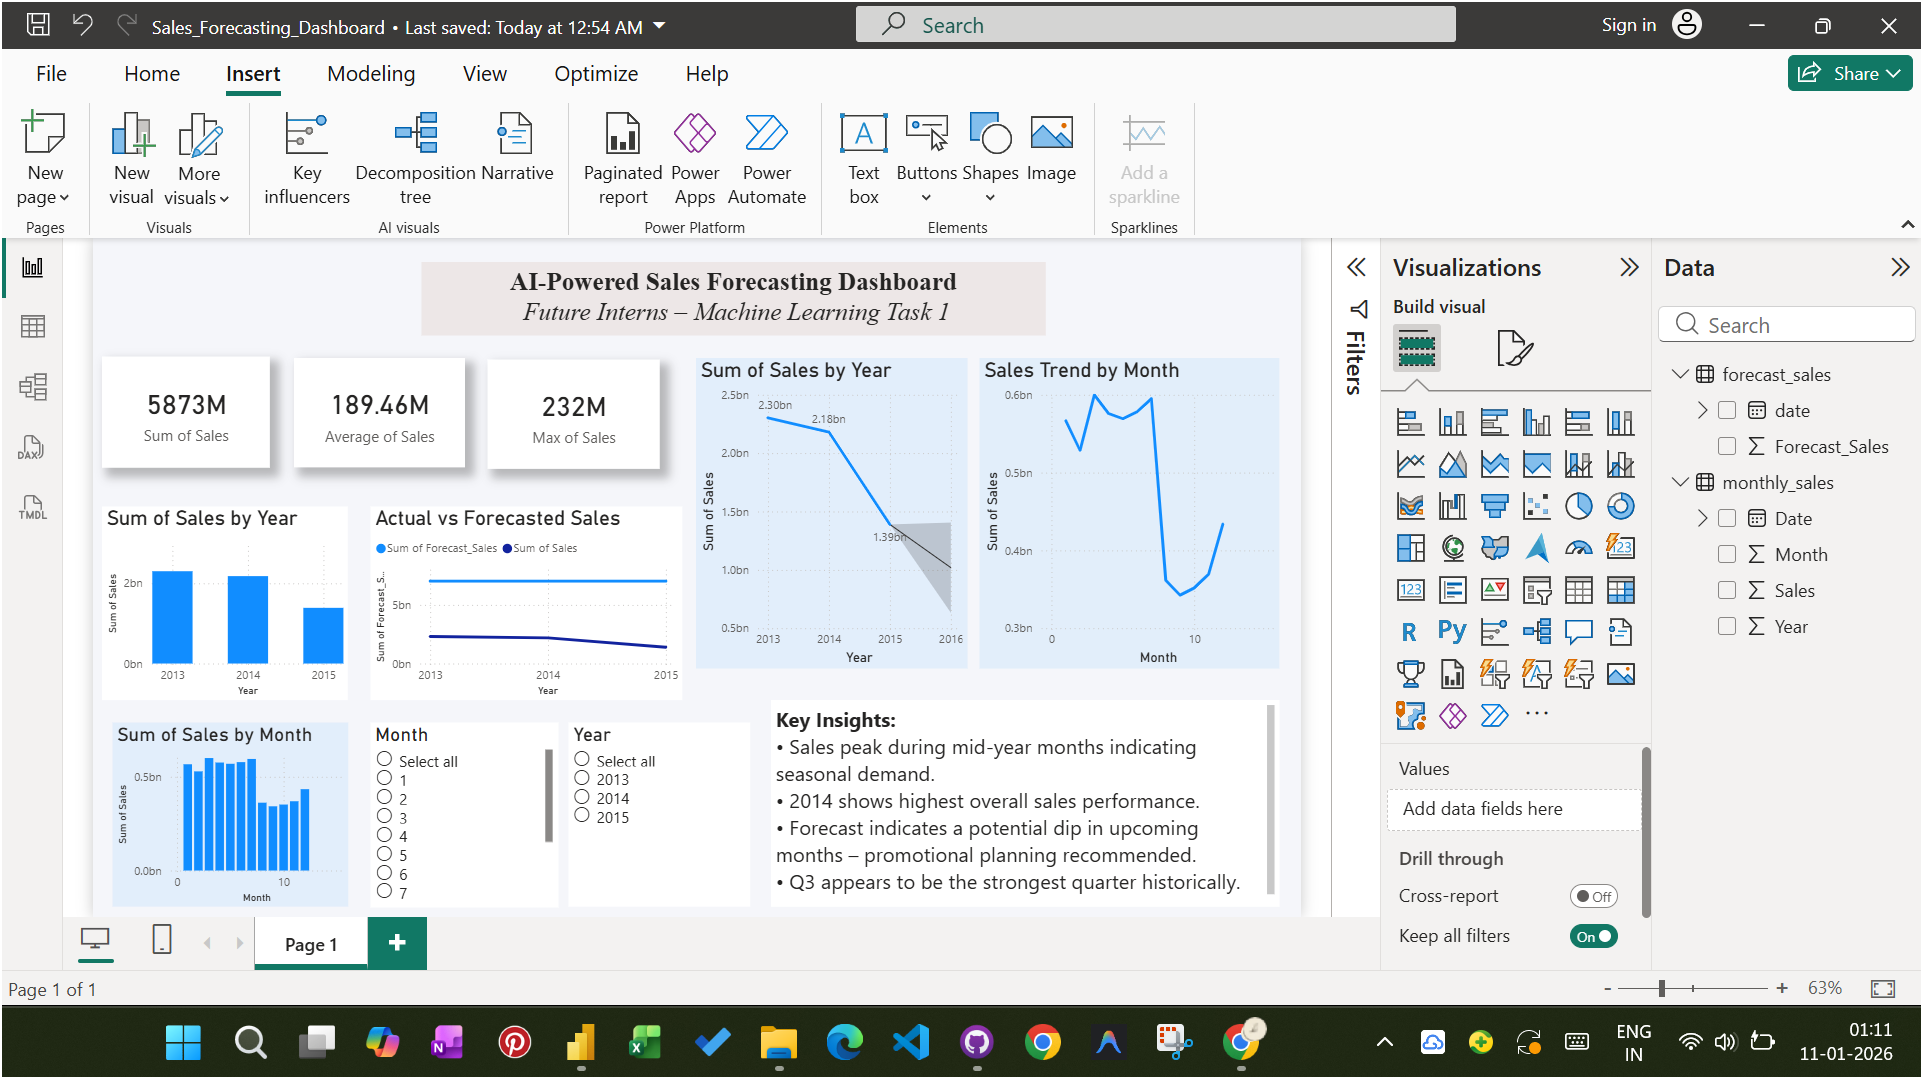

Layout of this report page (visuals, bound fields, positions):
{"tool":"powerbi","page":{"name":"Page 1","canvas":[1280,720],"ordinal":0},"visuals":[{"type":"lineChart","fields":{"Category":["monthly_sales.Date.Variation.Date Hierarchy.Year","monthly_sales.Date.Variation.Date Hierarchy.Quarter","monthly_sales.Date.Variation.Date Hierarchy.Month","monthly_sales.Date.Variation.Date Hierarchy.Day"],"Y":["Sum(monthly_sales.Sales)"]},"box":[639.4,127.2,287.9,329.3],"z":0},{"type":"clusteredColumnChart","fields":{"Category":["monthly_sales.Month"],"Y":["Sum(monthly_sales.Sales)"]},"box":[20.7,513.8,249.7,195.6],"z":1000},{"type":"clusteredColumnChart","fields":{"Category":["monthly_sales.Year"],"Y":["Sum(monthly_sales.Sales)"]},"box":[9.5,284.7,260.9,205.2],"z":2000},{"type":"listSlicer","fields":{"Values":["monthly_sales.Year"]},"box":[504.2,513.8,192.5,195.6],"z":3000},{"type":"listSlicer","fields":{"Values":["monthly_sales.Month"]},"box":[294.3,513.8,198.8,195.6],"z":4000},{"type":"textbox","box":[348.3,25.4,661.7,77.9],"z":5000},{"type":"card","fields":{"Values":["Max(monthly_sales.Sales)"]},"box":[418.3,128.8,182.9,116.1],"z":6000},{"type":"card","fields":{"Values":["Avg(monthly_sales.Sales)"]},"box":[213.1,127.2,181.3,116.1],"z":7000},{"type":"card","fields":{"Values":["Sum(monthly_sales.Sales)"]},"box":[9.5,125.7,178.1,117.7],"z":8000},{"type":"textbox","box":[719,489.9,539.2,219.5],"z":9000},{"type":"lineChart","title":"Sales Trend by Month","fields":{"Category":["monthly_sales.Month"],"Y":["Sum(monthly_sales.Sales)"]},"box":[940.1,127.2,318.1,329.3],"z":10000},{"type":"lineChart","title":"Actual vs Forecasted Sales","fields":{"Category":["monthly_sales.Date.Variation.Date Hierarchy.Year","monthly_sales.Date.Variation.Date Hierarchy.Quarter","monthly_sales.Date.Variation.Date Hierarchy.Month","monthly_sales.Date.Variation.Date Hierarchy.Day"],"Y":["Sum(forecast_sales.Forecast_Sales)","Sum(monthly_sales.Sales)"]},"box":[294.3,284.7,330.8,205.2],"z":10001}]}

Visuals, with their boxes on the page's 1280x720 design canvas (x1, y1, x2, y2). These are canvas units, not pixel positions in the 1923x1079 screenshot, which may show the page scaled, cropped or inside an application window:
lineChart - monthly_sales.Date.Variation.Date Hierarchy.Year x monthly_sales.Date.Variation.Date Hierarchy.Quarter: <bbox>639, 127, 927, 456</bbox>
clusteredColumnChart - monthly_sales.Month x Sum(monthly_sales.Sales): <bbox>21, 514, 270, 709</bbox>
clusteredColumnChart - monthly_sales.Year x Sum(monthly_sales.Sales): <bbox>10, 285, 270, 490</bbox>
listSlicer - monthly_sales.Year: <bbox>504, 514, 697, 709</bbox>
listSlicer - monthly_sales.Month: <bbox>294, 514, 493, 709</bbox>
textbox: <bbox>348, 25, 1010, 103</bbox>
card - Max(monthly_sales.Sales): <bbox>418, 129, 601, 245</bbox>
card - Avg(monthly_sales.Sales): <bbox>213, 127, 394, 243</bbox>
card - Sum(monthly_sales.Sales): <bbox>10, 126, 188, 243</bbox>
textbox: <bbox>719, 490, 1258, 709</bbox>
"Sales Trend by Month" lineChart: <bbox>940, 127, 1258, 456</bbox>
"Actual vs Forecasted Sales" lineChart: <bbox>294, 285, 625, 490</bbox>
